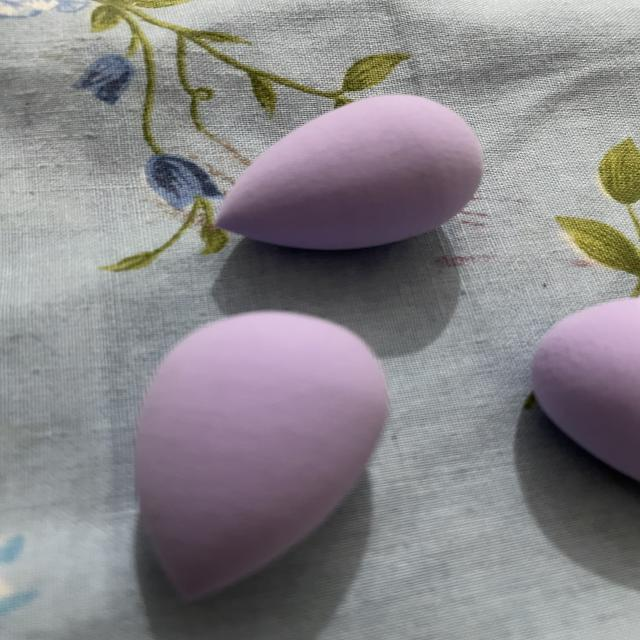beauty blender: (113, 296, 408, 618), (182, 77, 500, 260), (515, 283, 640, 518)
